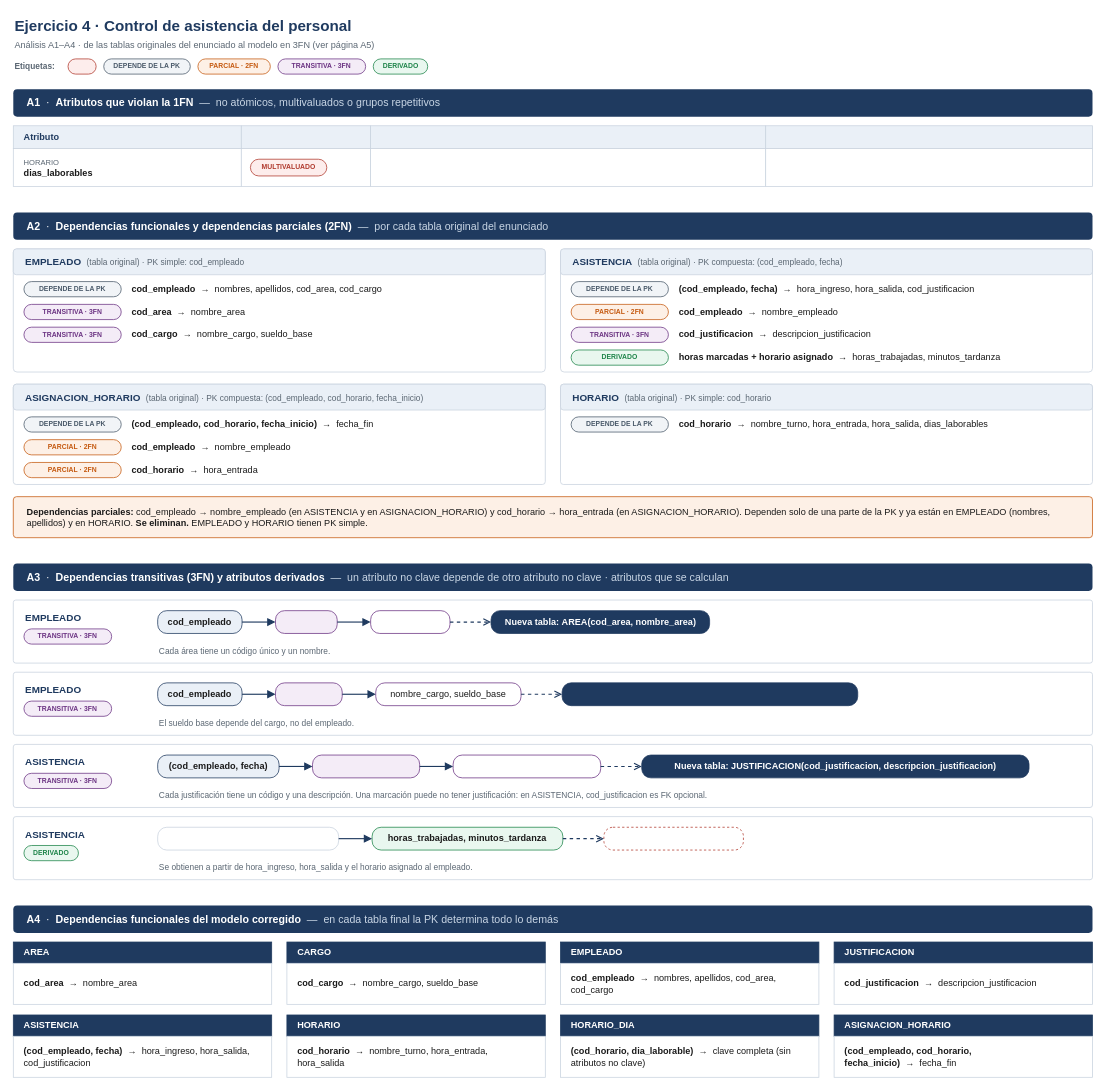
Some shapes in this 1106 by 1091 pixel diagram are drawn without their labels. Each missing label, with the centre of its shape:
1FN: [81,66]
cod_area: [306,621]
cod_cargo: [308,694]
cod_justificacion: [366,766]
descripcion_justificacion: [526,766]
Guarda varios días en un solo texto ("Lun,Mar,Mie,Jue,Vie").: [568,167]
horas marcadas + horario asignado: [248,838]
nombre_area: [410,621]
Nueva tabla HORARIO_DIA (cod_horario, dia_laborable): una fila por día.: [928,167]
Nueva tabla: CARGO(cod_cargo, nombre_cargo, sueldo_base): [709,694]
Por qué viola la 1FN: [568,137]
Problema: [305,137]
Se eliminan: se calculan: [673,838]
Solución: [928,137]
